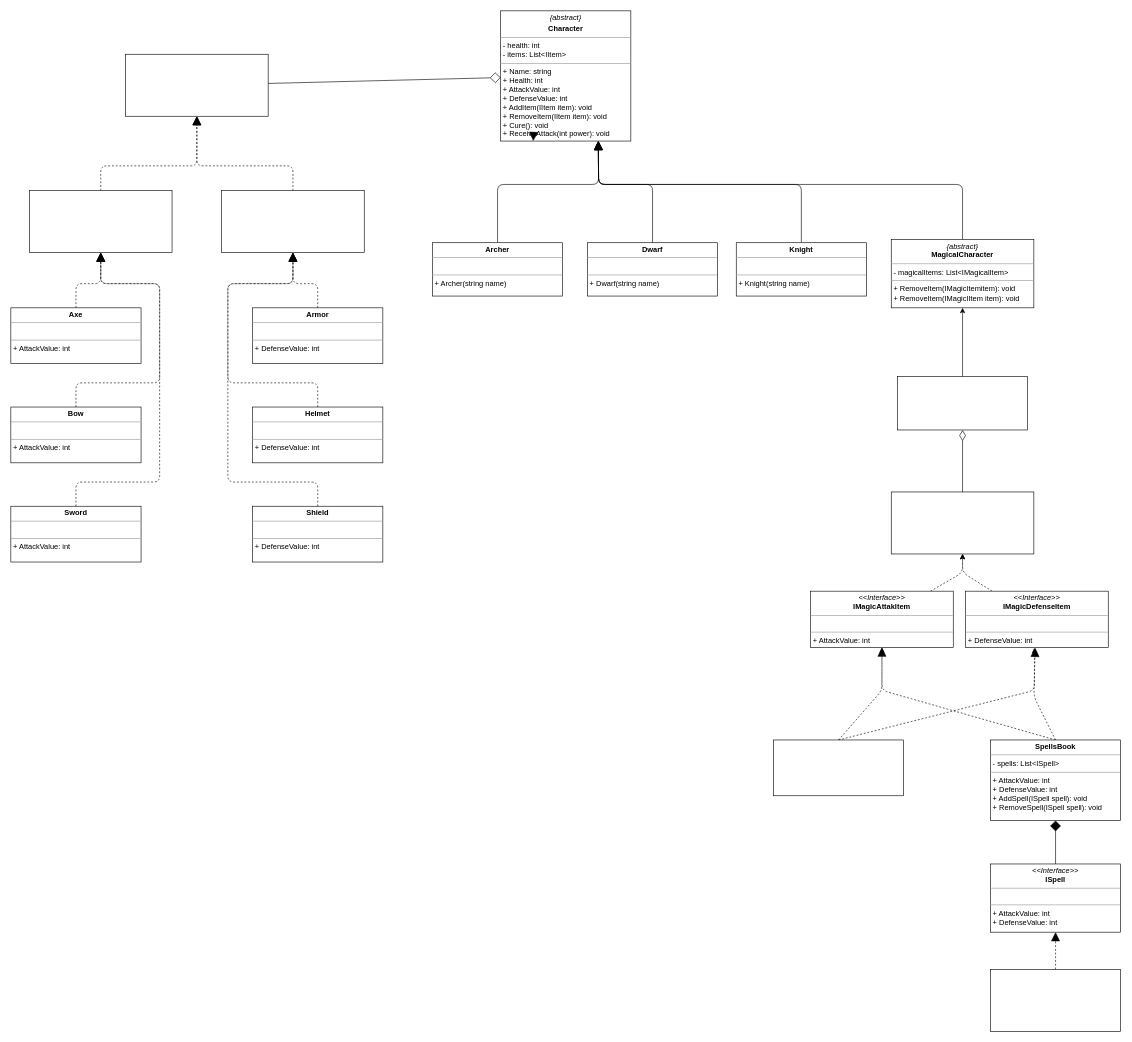
The diagram is 1132 pixels wide and 1042 high, and some of its shapes have lost their labels. Here are the shapes that lost their labels. From the top down, the box of each, then its label:
(125, 54, 268, 116): <<Interface>> IItem - name: string
(29, 190, 172, 253): <<Interface>> IAttackItem + AttackValue: int
(221, 190, 364, 253): <<Interface>> IDefenseItem + DefenseValue: int
(897, 376, 1028, 430): Wizard + Wizard(string name)
(891, 491, 1034, 554): <<Interface>> IMagicItem
(773, 739, 904, 796): Staff + AttackValue: int + DefenseValue: int
(990, 969, 1121, 1031): SpellOne - name: string + AttackValue: int + DefenseValue: int
